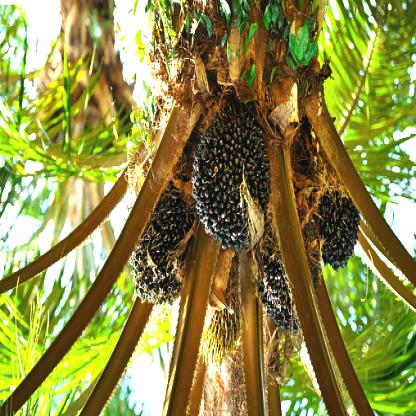palm-oil: (180, 102, 272, 256), (130, 188, 196, 313), (254, 242, 318, 338), (197, 278, 245, 367), (311, 196, 364, 271)
